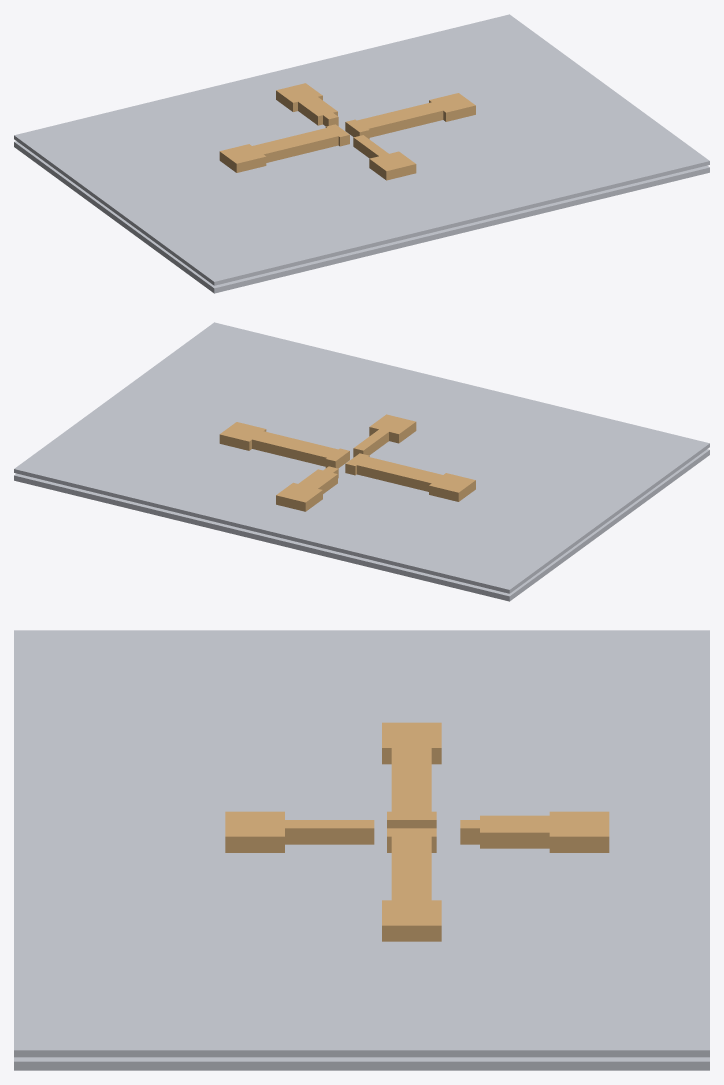
The model's file is board.glb.
3 views of the same model, one above another, from view 1: azimuth 30°, elevation 25°; view 2: azimuth 150°, elevation 25°; view 3: azimuth 270°, elevation 25° (orthographic). The views are drawn at different scales.
Visible parts, largest first — view 1: Substrate_Base_1, Substrate_Base_0, Copper_Net3_Contour0, Copper_Net1_Contour0, Copper_Net4_Contour0, Copper_Net2_Contour0; view 2: Substrate_Base_1, Substrate_Base_0, Copper_Net3_Contour0, Copper_Net1_Contour0, Copper_Net4_Contour0, Copper_Net2_Contour0; view 3: Substrate_Base_1, Substrate_Base_0, Copper_Net1_Contour0, Copper_Net4_Contour0, Copper_Net3_Contour0, Copper_Net2_Contour0.
Boxes of the visible parts, x1,y1,x2,y2 form: Substrate_Base_1: [14, 14, 709, 285]; Substrate_Base_0: [14, 141, 709, 293]; Copper_Net3_Contour0: [219, 124, 349, 172]; Copper_Net1_Contour0: [345, 93, 475, 139]; Copper_Net4_Contour0: [276, 83, 338, 126]; Copper_Net2_Contour0: [353, 135, 416, 180]; Substrate_Base_1: [14, 322, 709, 593]; Substrate_Base_0: [14, 449, 709, 601]; Copper_Net3_Contour0: [345, 453, 475, 501]; Copper_Net1_Contour0: [219, 422, 349, 468]; Copper_Net4_Contour0: [276, 466, 338, 511]; Copper_Net2_Contour0: [353, 414, 416, 457]; Substrate_Base_1: [14, 630, 709, 1057]; Substrate_Base_0: [14, 1057, 709, 1070]; Copper_Net1_Contour0: [382, 828, 441, 941]; Copper_Net4_Contour0: [460, 811, 609, 852]; Copper_Net3_Contour0: [382, 722, 441, 828]; Copper_Net2_Contour0: [225, 811, 374, 852].
Size of the model in its own units: 2e-05 by 1.14e-06 by 1.4e-05.
